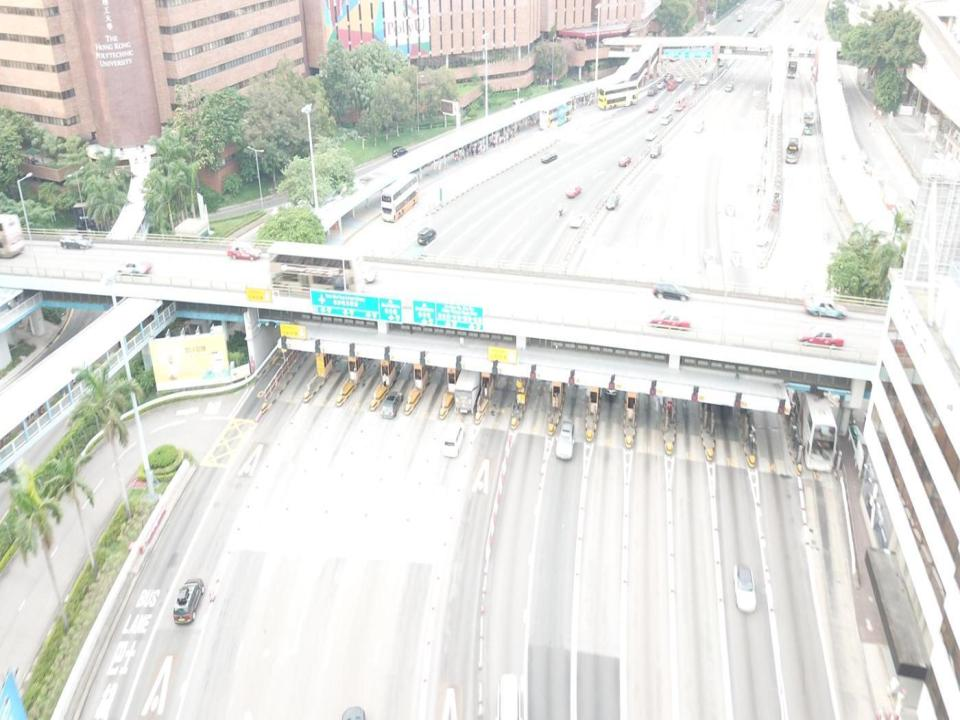bus: (267, 240, 362, 302), (794, 370, 837, 472), (382, 174, 419, 222), (598, 80, 638, 112), (540, 97, 572, 130), (784, 120, 806, 162), (800, 97, 814, 136), (786, 44, 797, 78), (674, 94, 686, 110)
car: (733, 564, 757, 612), (798, 325, 844, 349), (806, 294, 847, 320), (555, 417, 574, 459), (650, 312, 688, 332), (653, 281, 690, 300), (603, 362, 622, 396), (383, 390, 403, 418), (117, 259, 151, 274), (228, 244, 259, 259), (566, 185, 582, 198), (541, 152, 557, 164), (692, 117, 704, 132), (571, 214, 584, 227), (618, 156, 631, 166), (646, 130, 656, 140), (647, 103, 658, 112), (647, 87, 657, 96), (677, 72, 685, 83), (725, 83, 734, 92), (664, 72, 672, 82), (748, 25, 755, 33), (657, 81, 664, 89), (700, 77, 708, 84), (793, 15, 799, 22), (737, 15, 743, 21)
truck: (454, 348, 484, 414)
van: (172, 580, 204, 622), (442, 427, 464, 456), (60, 234, 92, 248), (418, 227, 436, 245), (392, 145, 408, 159), (606, 192, 618, 209), (650, 143, 662, 157), (512, 98, 526, 108), (661, 110, 671, 124), (666, 78, 677, 90), (669, 51, 680, 62), (717, 56, 726, 66)
